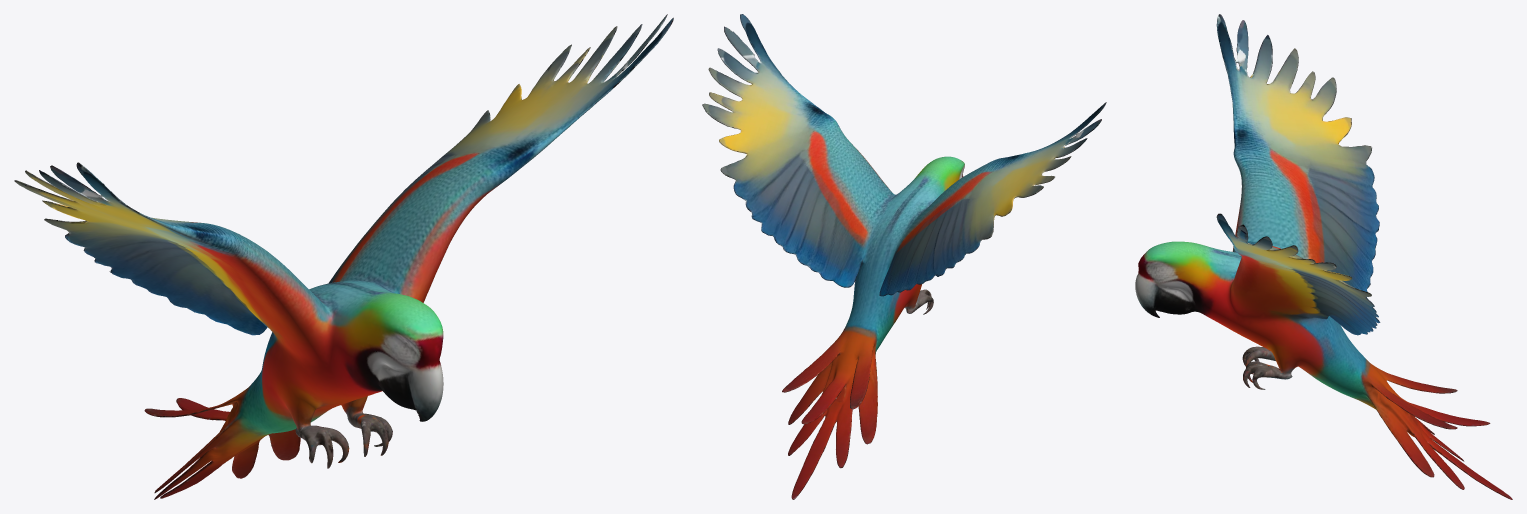
The model's file is parrot_wings_down.glb.
The picture shows the model from 3 angles, left to right: view 1: azimuth 30°, elevation 25°; view 2: azimuth 150°, elevation 25°; view 3: azimuth 270°, elevation 25°; orthographic projection. The views are drawn at different scales.
Parts seen in each view (by area): view 1: model; view 2: model; view 3: model.
Part boxes in pixels (x1,y1,x2,y2): model: (14, 14, 673, 499); model: (702, 14, 1106, 499); model: (1135, 14, 1512, 499).
Size of the model in its own units: 1.89 by 1.66 by 1.47.
1 material, 1 textured.
